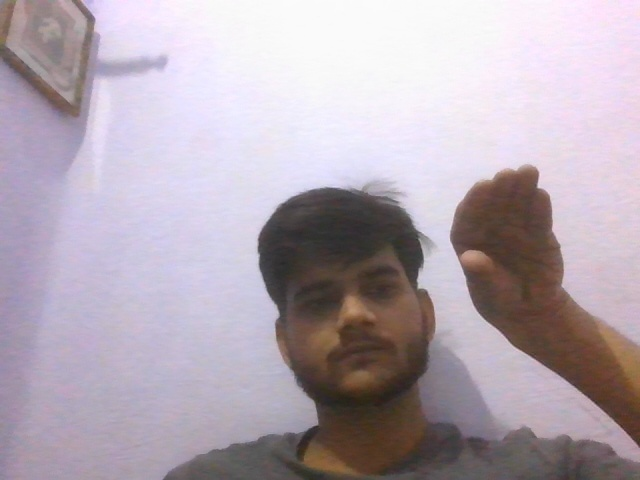sorry: (430, 157, 584, 369)
